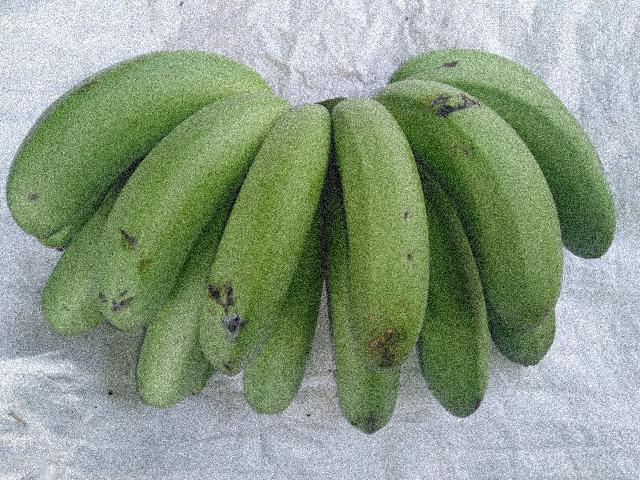unripe: (380, 61, 562, 324), (0, 33, 210, 236), (199, 73, 328, 372), (95, 107, 254, 327), (329, 71, 431, 368), (412, 263, 500, 427), (320, 331, 404, 450)
